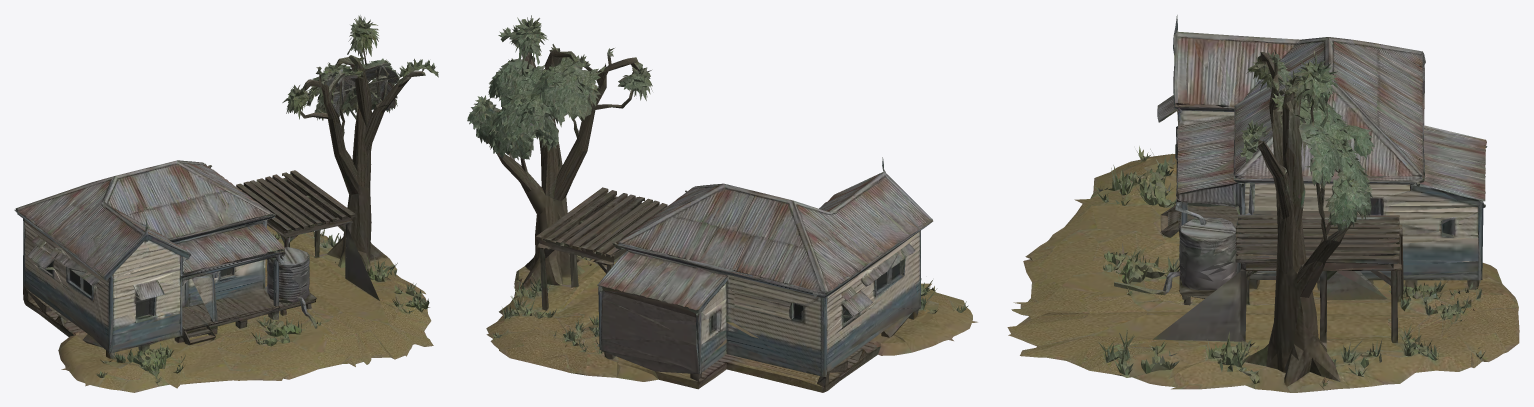
The model's file is water_tank_house.glb.
The picture shows the model from 3 angles, left to right: view 1: azimuth 30°, elevation 25°; view 2: azimuth 150°, elevation 25°; view 3: azimuth 270°, elevation 25°; orthographic projection. The views are drawn at different scales.
Bounding box in the file's own units: 1.9 × 1.14 × 1.58.
1 material, 1 textured.
